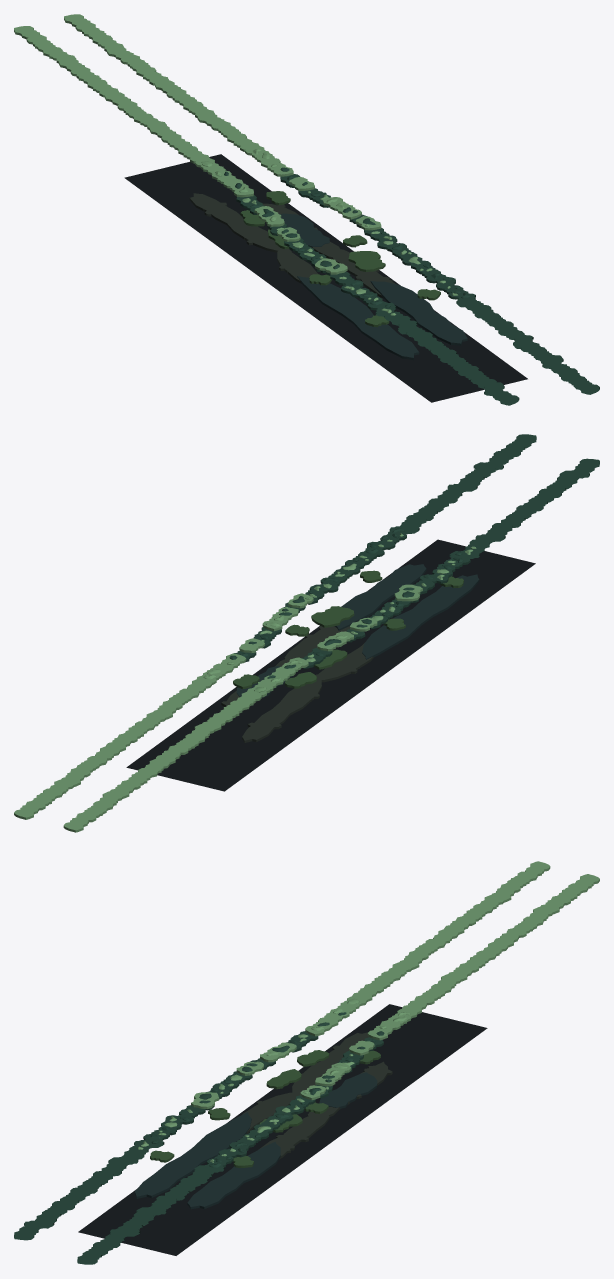
File: Transition_Light_to_Medium.fbx
3 renders of one model, top to bottom at view 1: azimuth 30°, elevation 25°; view 2: azimuth 150°, elevation 25°; view 3: azimuth 330°, elevation 25°, orthographic.
Visible parts, largest first — view 1: Transition1_background, Light_top_border_left.001, Medium_top_border_left.001, Light_top_border_right.001, Medium_top_border_right.001, Medium_bottom_base.003, Medium_bottom_base.004, Light_bottom_right.001, Medium_bottom_base.002, Light_bottom_left.002, Light_bottom_right.002, Light_middle_base.007; view 2: Transition1_background, Light_top_border_right.001, Light_top_border_left.001, Medium_top_border_left.001, Medium_top_border_right.001, Medium_bottom_base.003, Medium_bottom_base.004, Light_bottom_right.001, Light_bottom_right.002, Light_bottom_left.002, Light_middle_base.007; view 3: Transition1_background, Medium_top_border_left.001, Light_top_border_left.001, Light_top_border_right.001, Medium_top_border_right.001, Medium_bottom_base.003, Medium_bottom_base.004, Light_bottom_right.001, Medium_bottom_base.002, Light_bottom_left.002, Light_bottom_right.002, Light_bottom_left.001.
Part boxes in pixels (x1,y1,x2,y2): Transition1_background: (124, 154, 527, 402); Light_top_border_left.001: (64, 14, 293, 176); Medium_top_border_left.001: (364, 228, 599, 394); Light_top_border_right.001: (14, 26, 243, 188); Medium_top_border_right.001: (284, 238, 519, 405); Medium_bottom_base.003: (297, 276, 419, 360); Medium_bottom_base.004: (370, 281, 467, 345); Light_bottom_right.001: (189, 193, 292, 252); Medium_bottom_base.002: (279, 213, 329, 247); Light_bottom_left.002: (330, 248, 396, 298); Light_bottom_right.002: (277, 248, 317, 299); Light_middle_base.007: (348, 251, 385, 271); Transition1_background: (126, 539, 535, 791); Light_top_border_right.001: (63, 666, 295, 832); Light_top_border_left.001: (14, 653, 246, 819); Medium_top_border_left.001: (305, 434, 536, 604); Medium_top_border_right.001: (369, 458, 599, 629); Medium_bottom_base.003: (362, 574, 479, 659); Medium_bottom_base.004: (334, 564, 426, 630); Light_bottom_right.001: (242, 674, 321, 742); Light_bottom_right.002: (316, 643, 398, 682); Light_bottom_left.002: (284, 621, 358, 659); Light_middle_base.007: (311, 606, 354, 627); Transition1_background: (78, 1004, 487, 1255); Medium_top_border_left.001: (77, 1095, 315, 1264); Light_top_border_left.001: (367, 874, 599, 1040); Light_top_border_right.001: (318, 861, 550, 1027); Medium_top_border_right.001: (14, 1071, 252, 1240); Medium_bottom_base.003: (134, 1112, 251, 1198); Medium_bottom_base.004: (187, 1142, 280, 1209); Light_bottom_right.001: (292, 1032, 369, 1095); Medium_bottom_base.002: (319, 1072, 377, 1108); Light_bottom_left.002: (258, 1113, 329, 1159); Light_bottom_right.002: (242, 1092, 300, 1133); Light_bottom_left.001: (307, 1061, 392, 1118).
Bounding box in the file's own units: 9057 × 4681 × 82509.
